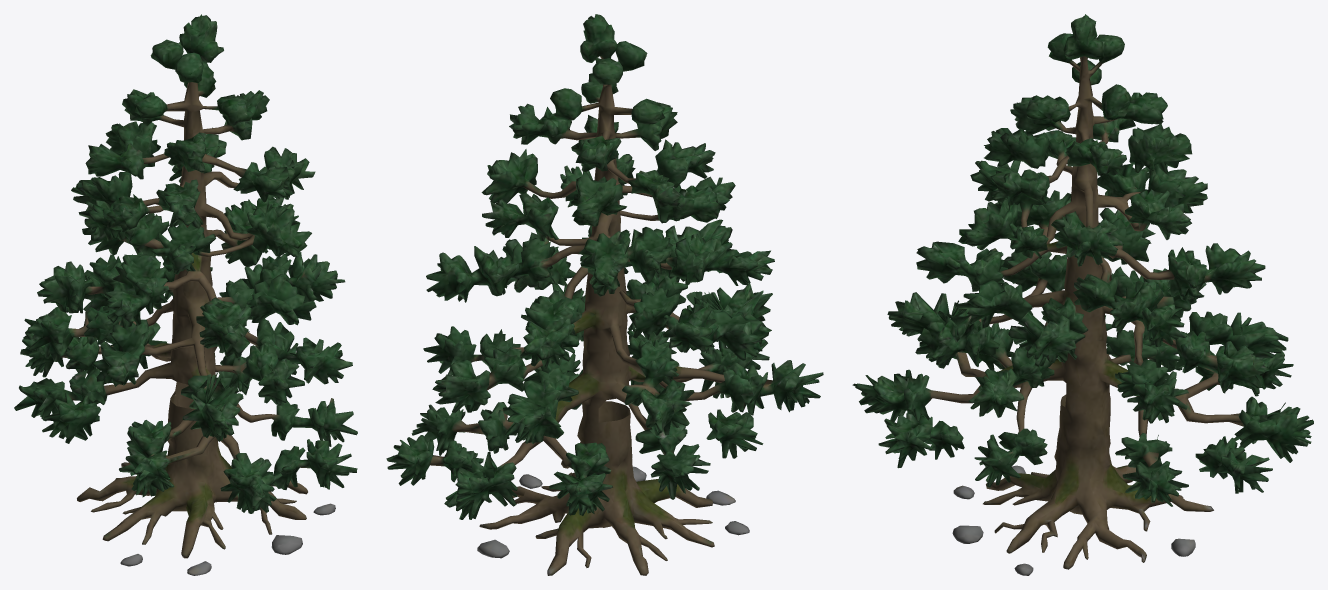
File: pine_tree.glb
3 renders of one model, left to right at view 1: azimuth 30°, elevation 25°; view 2: azimuth 150°, elevation 25°; view 3: azimuth 270°, elevation 25°, orthographic. The views are drawn at different scales.
Parts seen in each view (by area): view 1: tripo_node_cfec4137-0164-4519-bc2d-8719a89b6b3d; view 2: tripo_node_cfec4137-0164-4519-bc2d-8719a89b6b3d; view 3: tripo_node_cfec4137-0164-4519-bc2d-8719a89b6b3d.
Boxes of the visible parts, x1,y1,x2,y2 form: tripo_node_cfec4137-0164-4519-bc2d-8719a89b6b3d: (14, 14, 357, 575); tripo_node_cfec4137-0164-4519-bc2d-8719a89b6b3d: (386, 14, 823, 575); tripo_node_cfec4137-0164-4519-bc2d-8719a89b6b3d: (852, 14, 1313, 575).
Size of the model in its own units: 0.6243 by 1 by 0.818.
Materials: 1 (1 with a texture image).
